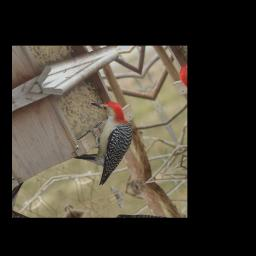Woodpecker: (57, 90, 152, 187)
